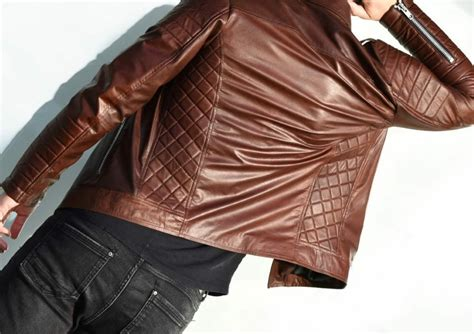cuero: (3, 2, 474, 289)
